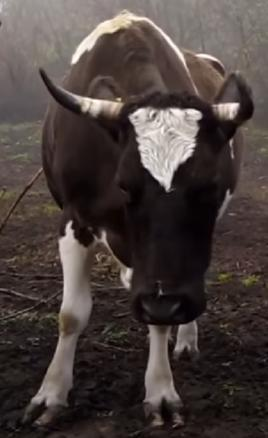cow: (21, 10, 254, 428)
